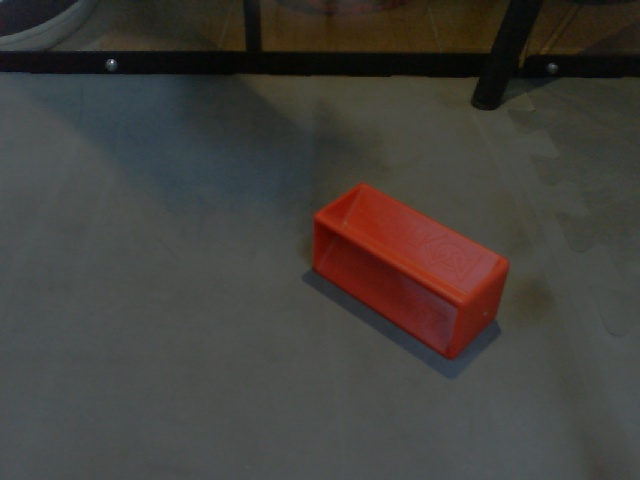RedSample: (308, 180, 512, 365)
